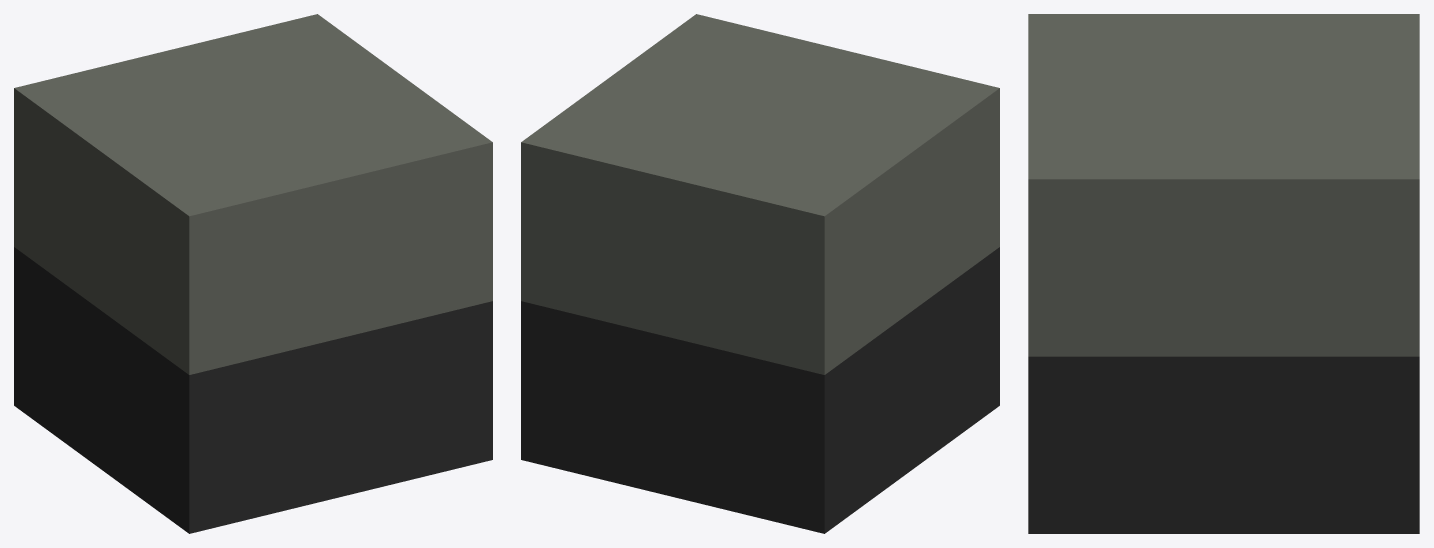
Rendered from Beer Knight-1.obj.
3 views of the same model, side by side, from view 1: azimuth 30°, elevation 25°; view 2: azimuth 150°, elevation 25°; view 3: azimuth 270°, elevation 25° (orthographic). The views are drawn at different scales.
Bounding box in the file's own units: 0.2 × 0.2 × 0.2.
1 material, 1 textured.
